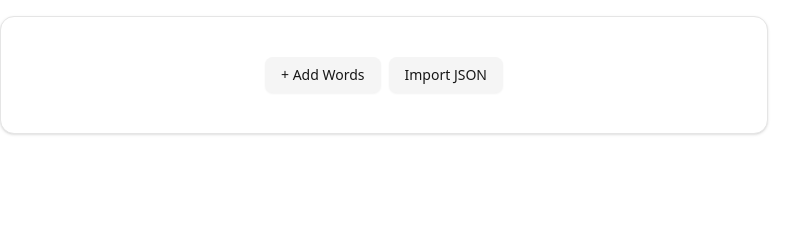
Test case: AddWordsForm › shows an error message when loading languages fails (after opening the form)
Note: Error will appear in the form markup when it becomes visible
Click the button "+ Add Words": (323, 75) [265,57,380,93]
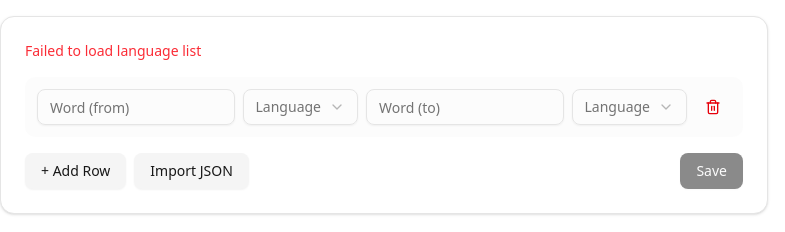
Check: the text "Failed to load language list" is shown, box [25,41,201,60]
